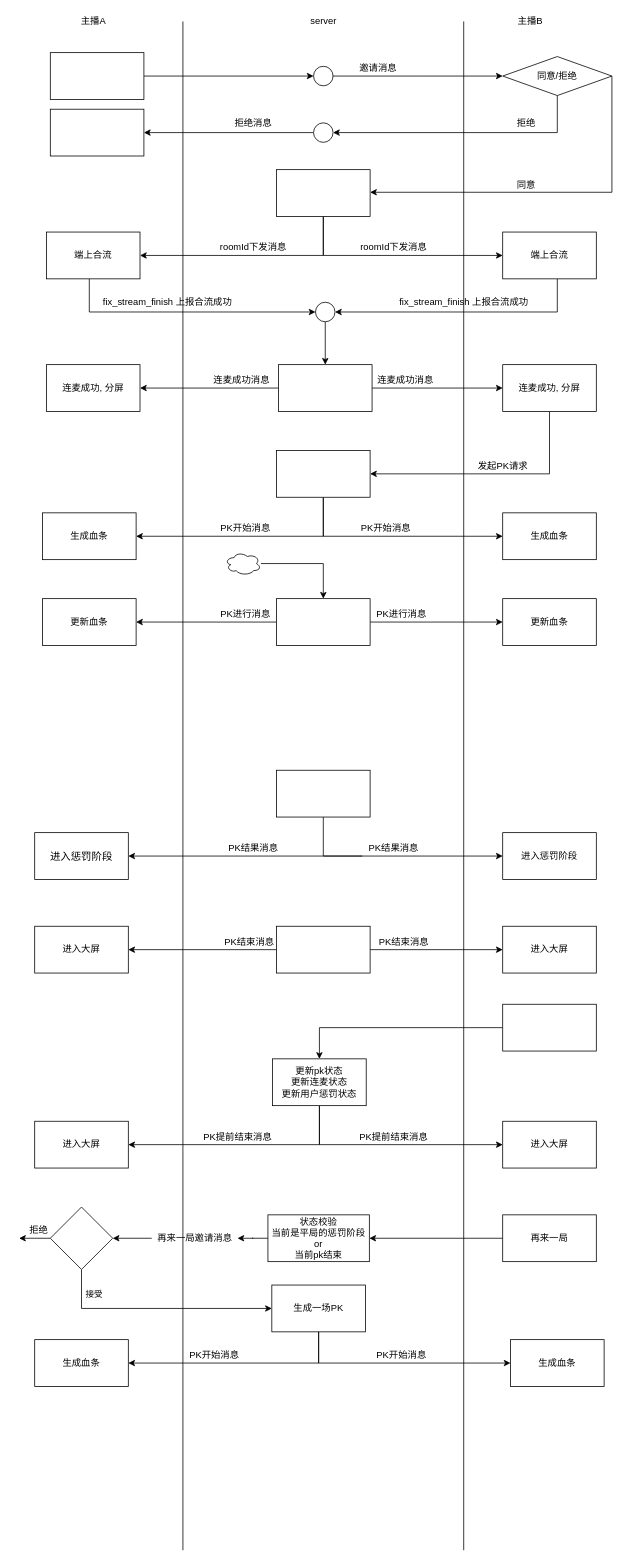
The diagram is 632 pixels wide and 1565 high, and some of its shapes have lost their labels. The centre of each missing label's shape, as x and y in pixels:
"2min倒计时 更新pk状态 惩罚结束" goes at pixel 323 949.
"5min倒计时结束 更新pk状态" goes at pixel 323 793.
"createRoom 拿到roomId" goes at pixel 323 192.
"PK进行中提前结束" goes at pixel 549 1027.
"双方都上报合流成功" goes at pixel 325 387.
"发起pk" goes at pixel 97 75.
"建立一场pk" goes at pixel 323 473.
"接受/拒绝" goes at pixel 81 1237.
"监听礼物消息" goes at pixel 323 621.
"结束" goes at pixel 97 132.
